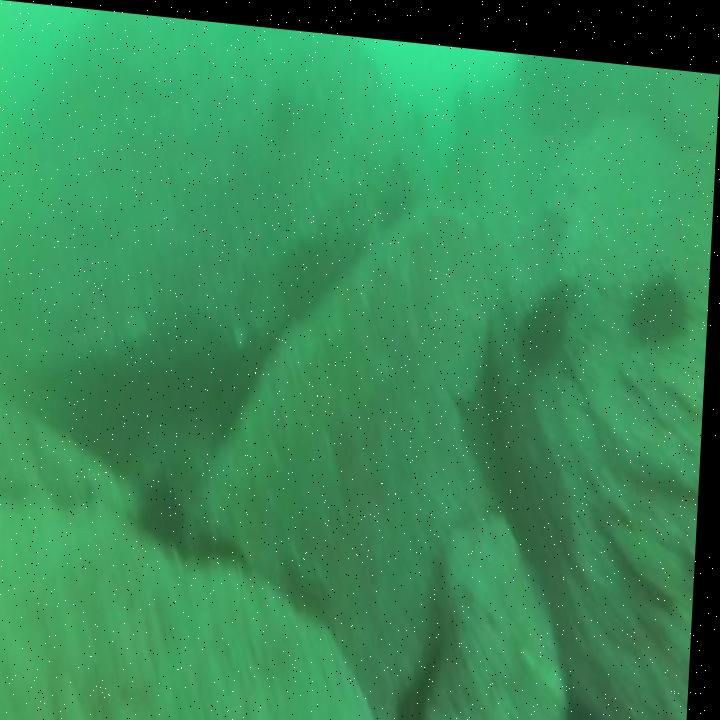echinus: (515, 265, 575, 366), (135, 459, 194, 556), (631, 253, 695, 338), (187, 515, 260, 567), (265, 74, 297, 140)
